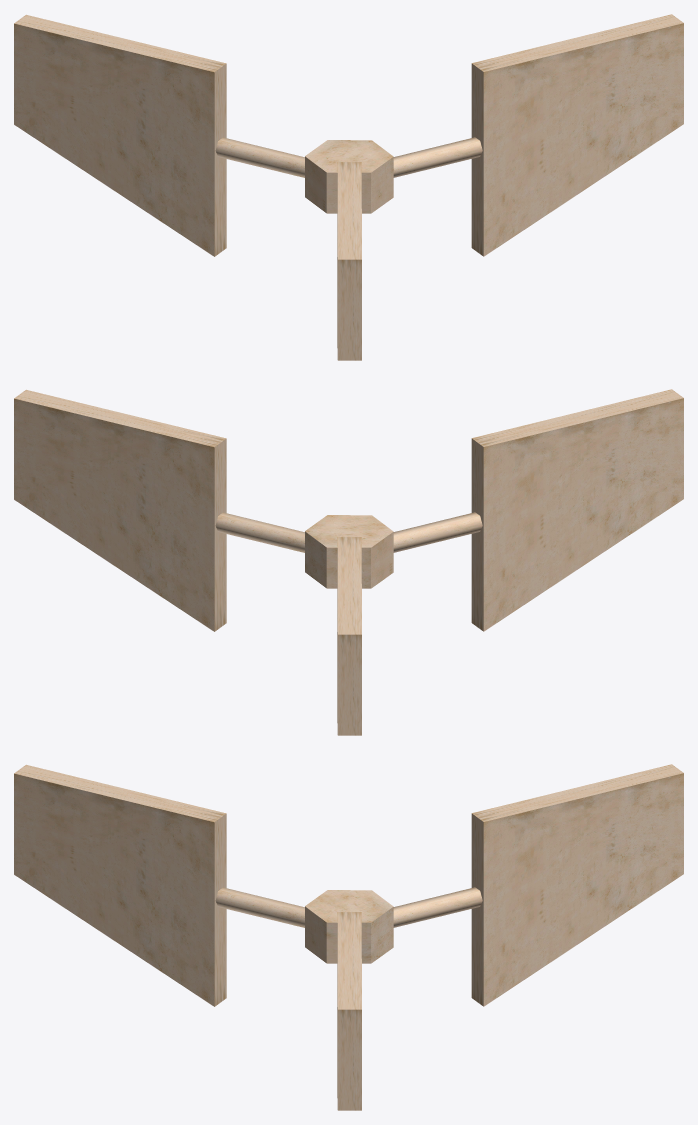
The model's file is ins_all_min_moisture_s01_u0_prop_l0.fbx.
The picture shows the model from 3 angles, top to bottom: view 1: azimuth 30°, elevation 25°; view 2: azimuth 150°, elevation 25°; view 3: azimuth 270°, elevation 25°; orthographic projection.
Visible parts, largest first — view 1: mesh_node; view 2: mesh_node; view 3: mesh_node.
Boxes of the visible parts, left/top/right/bottom form: mesh_node: left=14, top=14, right=683, bottom=360; mesh_node: left=14, top=389, right=683, bottom=735; mesh_node: left=14, top=764, right=683, bottom=1110.
Bounding box in the file's own units: 0.8022 × 0.2815 × 0.9254.
